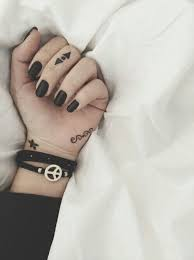hand: (4, 22, 108, 166)
